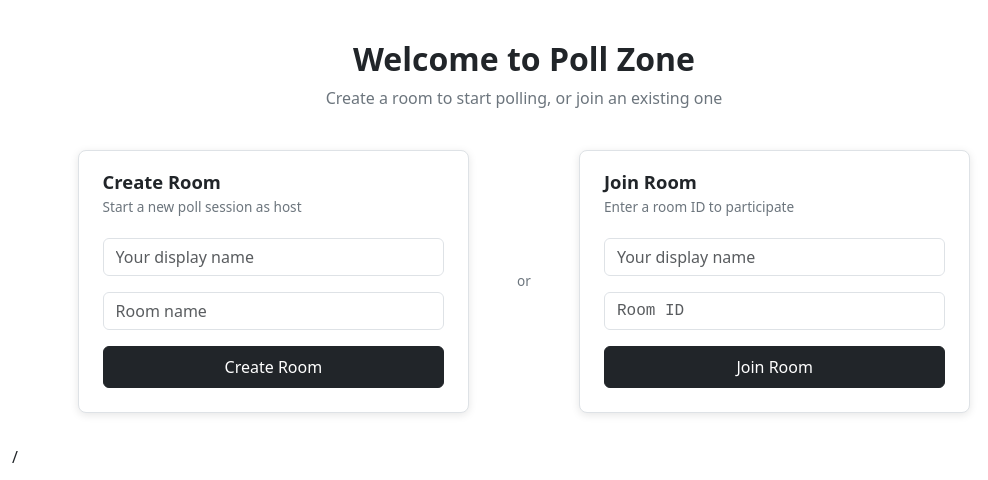
Integration Tests › Full Host Lifecycle (integration) › host creates room, gets toast, then sees create poll page
The width and height of the screenshot is (988, 480).
Type "Alice" into the field with placeholder "Your display name" below "Start a new poll session as host". click: (273, 257)
box: [103,238,444,276]
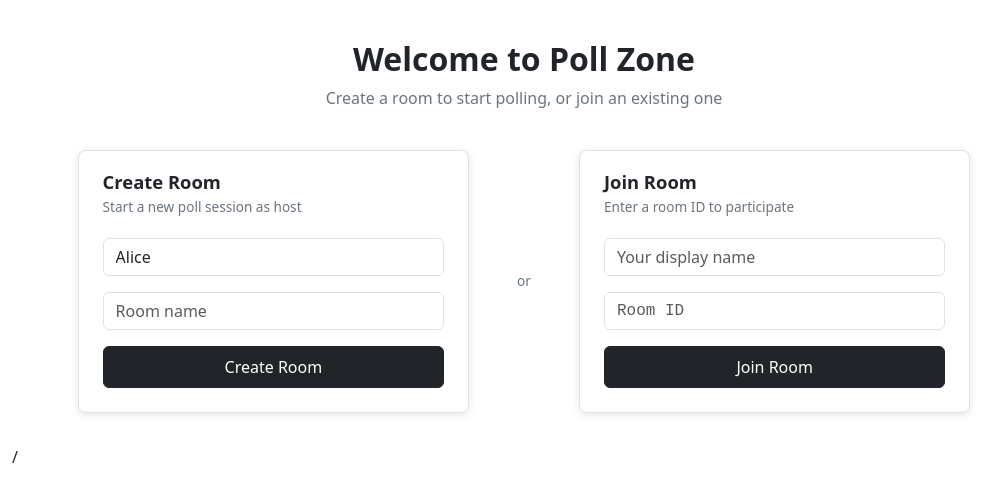
Type "Retro" into the field with placeholder "Room name". click: (273, 311)
box: [103,292,444,330]
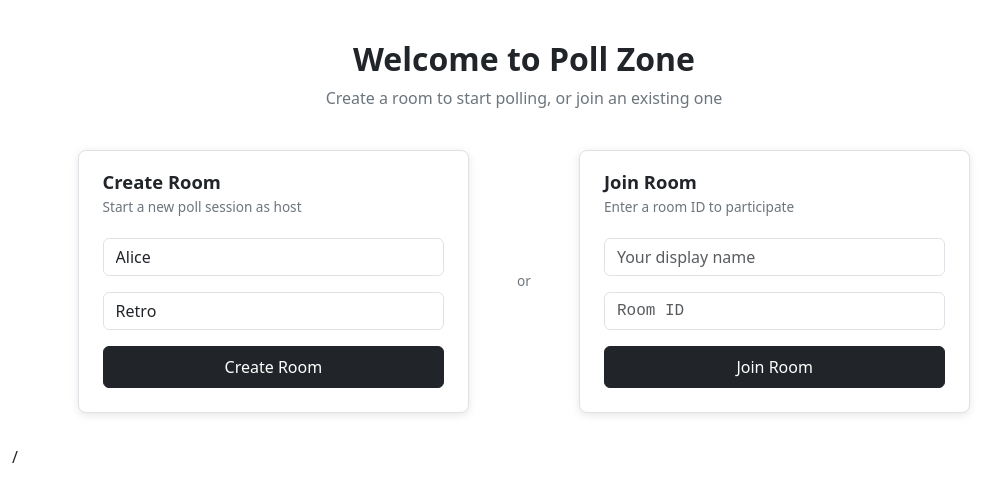
Click the button "Create Room". click: (273, 367)
box: [103,346,444,388]
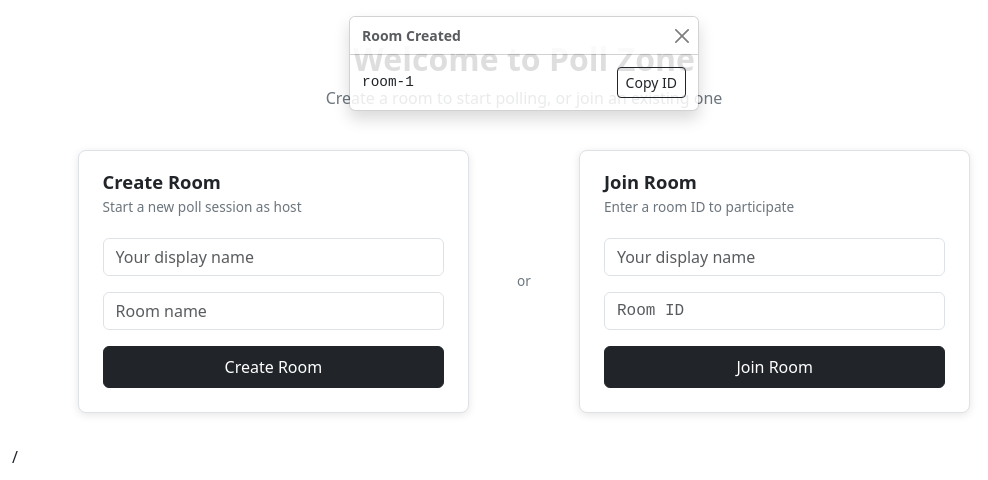
Check: the text "room-1" is shown, box [362,72,414,93]
Click the button named "close". click: (682, 36)
box: [671,25,692,46]
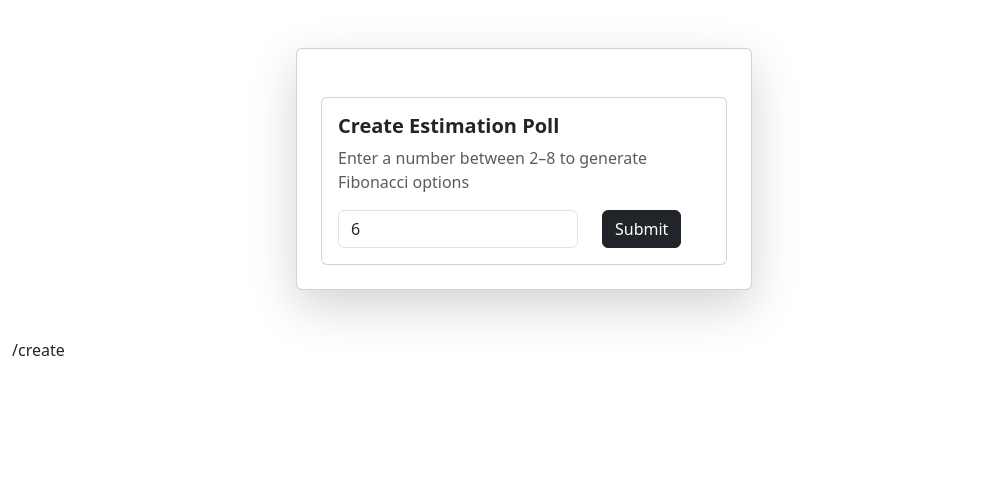
Check: the text with test id "location" reads "/create", box [12,339,65,361]
